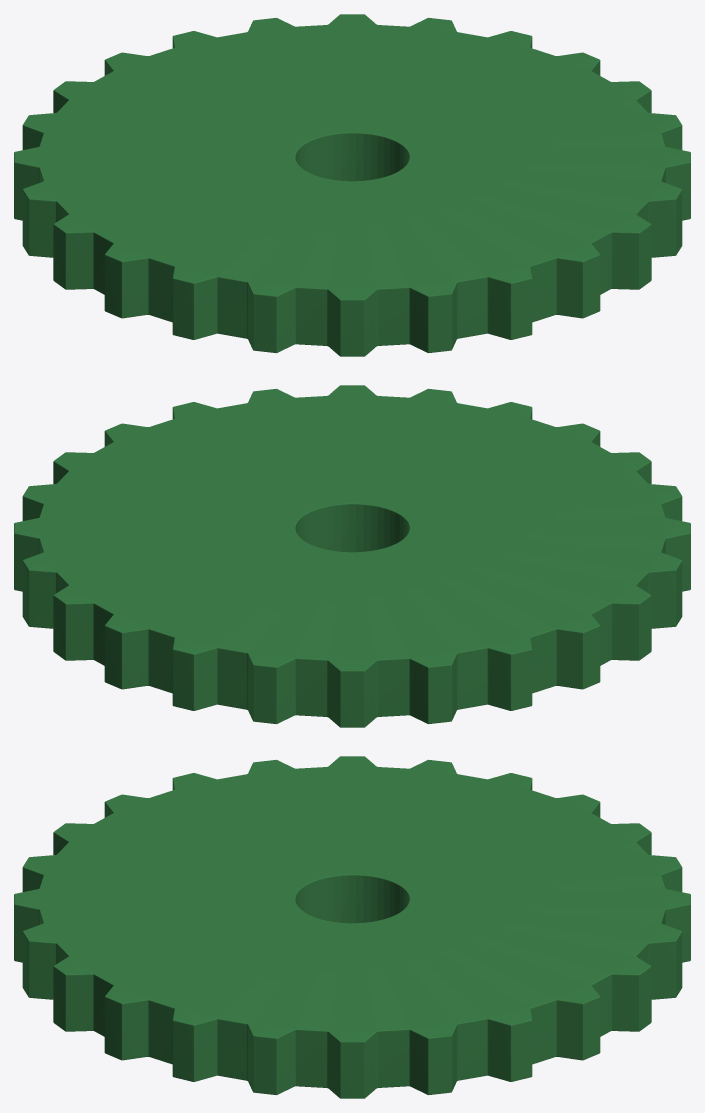
File: Gear_24T.fbx
3 renders of one model, top to bottom at view 1: azimuth 30°, elevation 25°; view 2: azimuth 150°, elevation 25°; view 3: azimuth 270°, elevation 25°, orthographic.
Parts seen in each view (by area): view 1: Gear_24T; view 2: Gear_24T; view 3: Gear_24T.
Part boxes in pixels (<box>): Gear_24T: <box>14,14,690,356</box>; Gear_24T: <box>14,385,690,727</box>; Gear_24T: <box>14,756,690,1098</box>.
Bounding box in the file's own units: 10.71 × 1 × 10.71.
